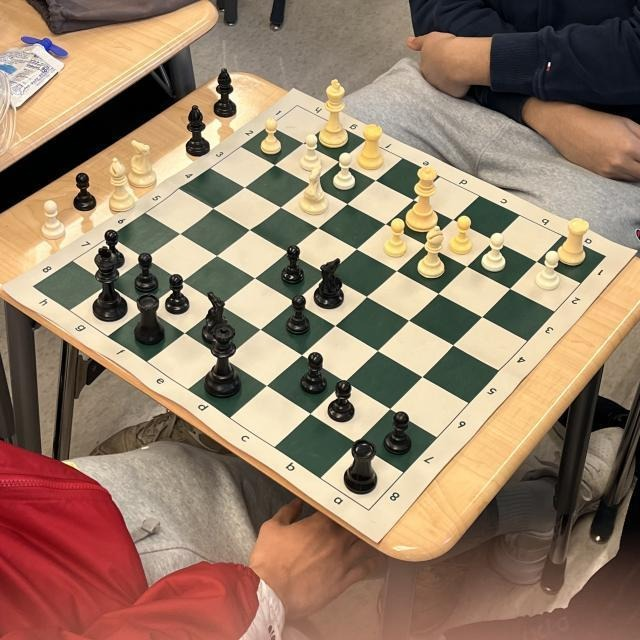black-king: (92, 246, 127, 319)
black-knight: (313, 256, 347, 311), (201, 293, 231, 345)
black-pawn: (383, 411, 413, 455), (299, 350, 328, 394), (328, 380, 356, 422), (277, 244, 306, 284), (99, 227, 127, 268), (285, 293, 311, 335), (163, 274, 190, 314), (71, 172, 96, 212), (133, 251, 158, 291)
black-queen: (205, 326, 240, 398)
black-rook: (343, 437, 379, 495), (131, 294, 166, 347)
white-bishop: (416, 224, 447, 280), (109, 156, 133, 215), (184, 105, 212, 155), (212, 68, 240, 117)
white-king: (320, 77, 352, 148)
white-knight: (298, 164, 329, 216), (129, 141, 159, 187)
white-pawn: (535, 249, 561, 293), (479, 231, 508, 269), (332, 151, 356, 195), (42, 197, 66, 239), (450, 215, 474, 254), (384, 218, 407, 258), (260, 116, 283, 156), (300, 132, 320, 172)
white-queen: (406, 164, 440, 232)
white-rook: (560, 218, 588, 268), (356, 122, 384, 171)
